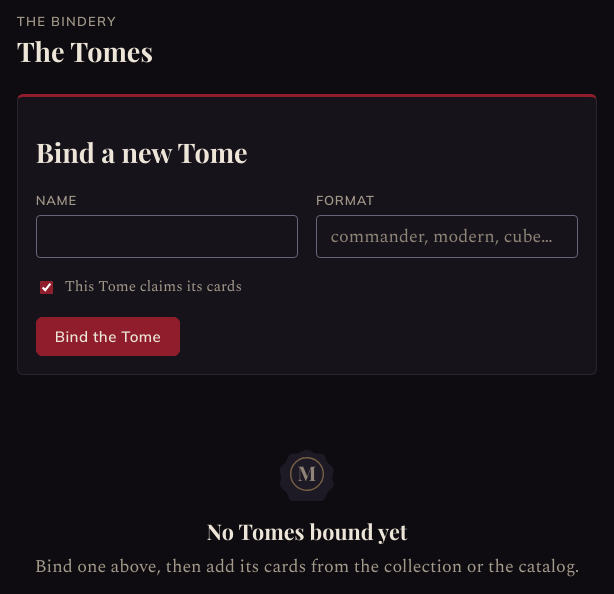
Scenario: TomesPage › shows why the bind failed
The image size is (614, 594).
Step 1. Type "Brew" into the field labelled "Name" → (167, 237), box [36, 215, 298, 258]
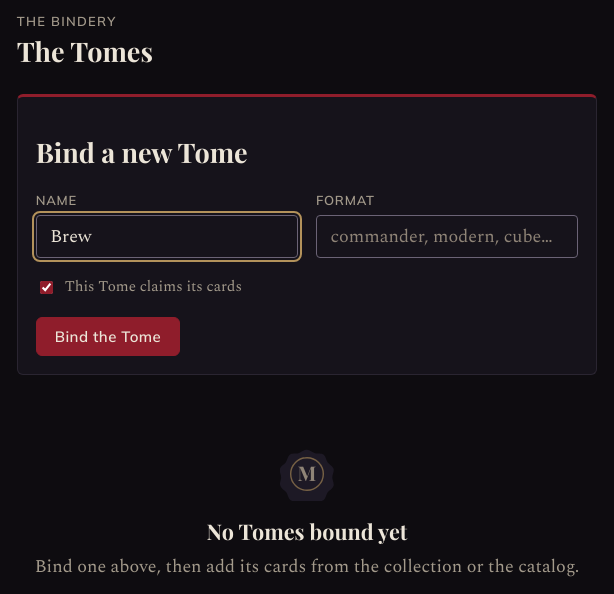
Step 2. Click the button "Bind the Tome" → (108, 337), box [36, 317, 180, 356]
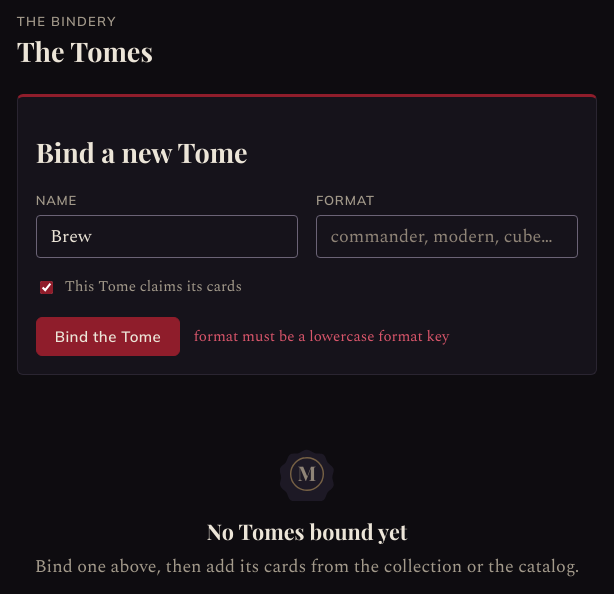
Check: the message reads "format must be a lowercase format key", box [194, 325, 449, 348]
